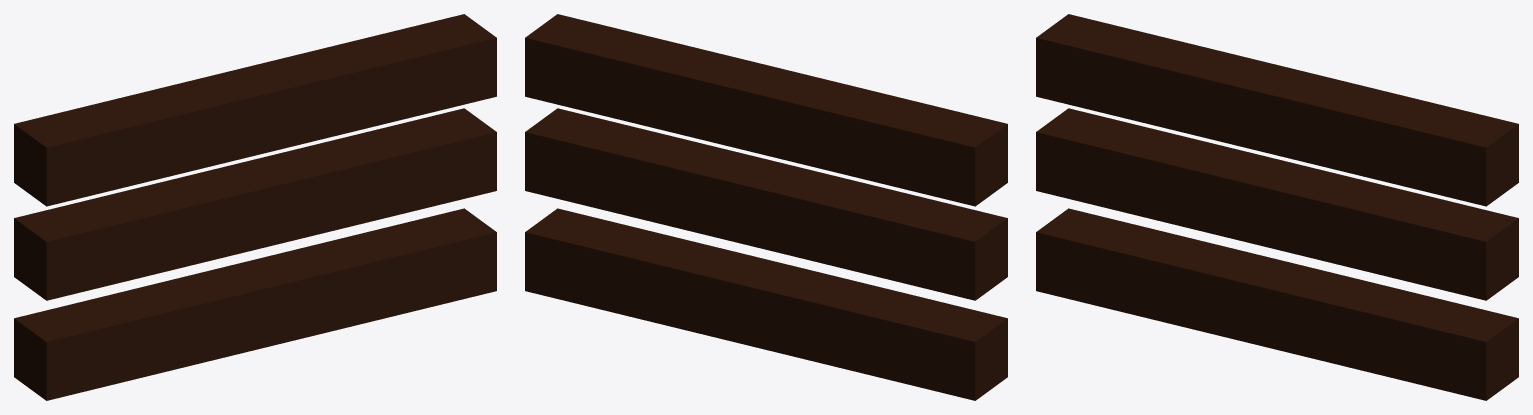
The model's file is Railing-2x1-Cross-Bars-Triple.FBX.
3 views of the same model, side by side, from view 1: azimuth 30°, elevation 25°; view 2: azimuth 150°, elevation 25°; view 3: azimuth 330°, elevation 25° (orthographic).
Parts seen in each view (by area): view 1: Railing-2x1-Cross-Bars-Triple; view 2: Railing-2x1-Cross-Bars-Triple; view 3: Railing-2x1-Cross-Bars-Triple.
Boxes of the visible parts, x1=… form: Railing-2x1-Cross-Bars-Triple: x1=14, y1=14, x2=496, y2=400; Railing-2x1-Cross-Bars-Triple: x1=525, y1=14, x2=1007, y2=400; Railing-2x1-Cross-Bars-Triple: x1=1036, y1=14, x2=1518, y2=400.
Size of the model in its own units: 20 by 2.5 by 10.75.
